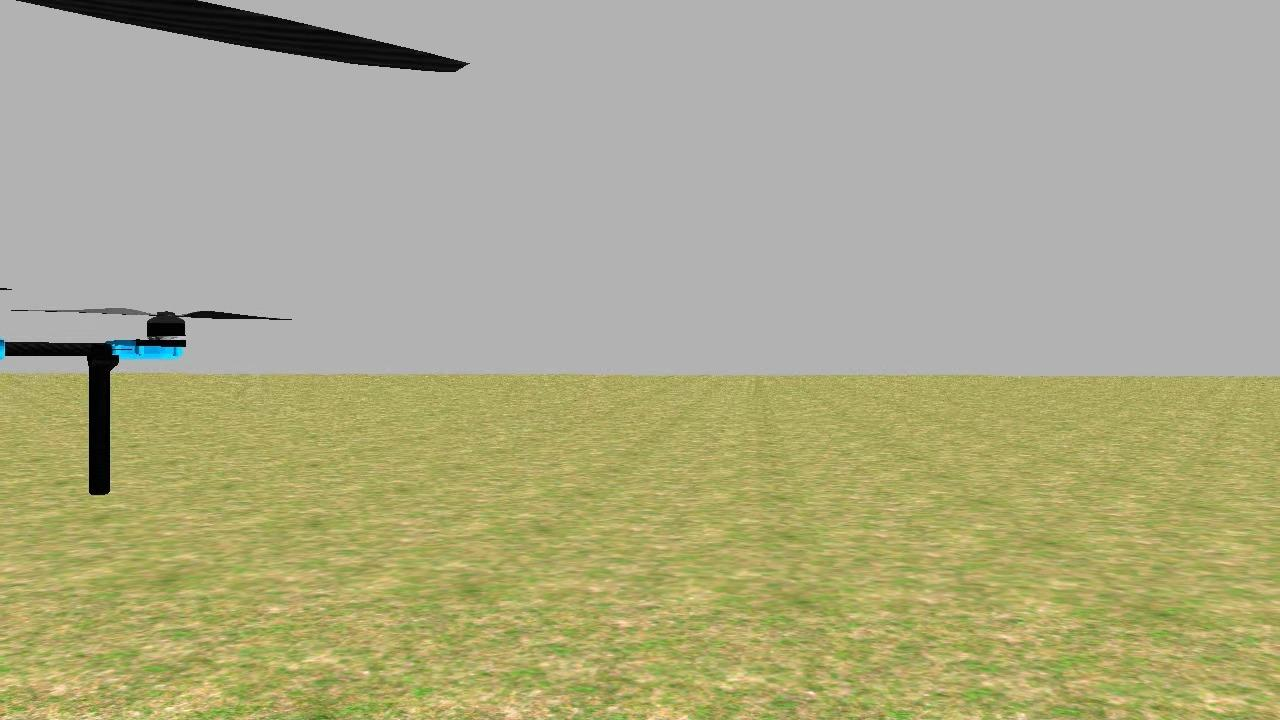UAV: (0, 295, 195, 507)
